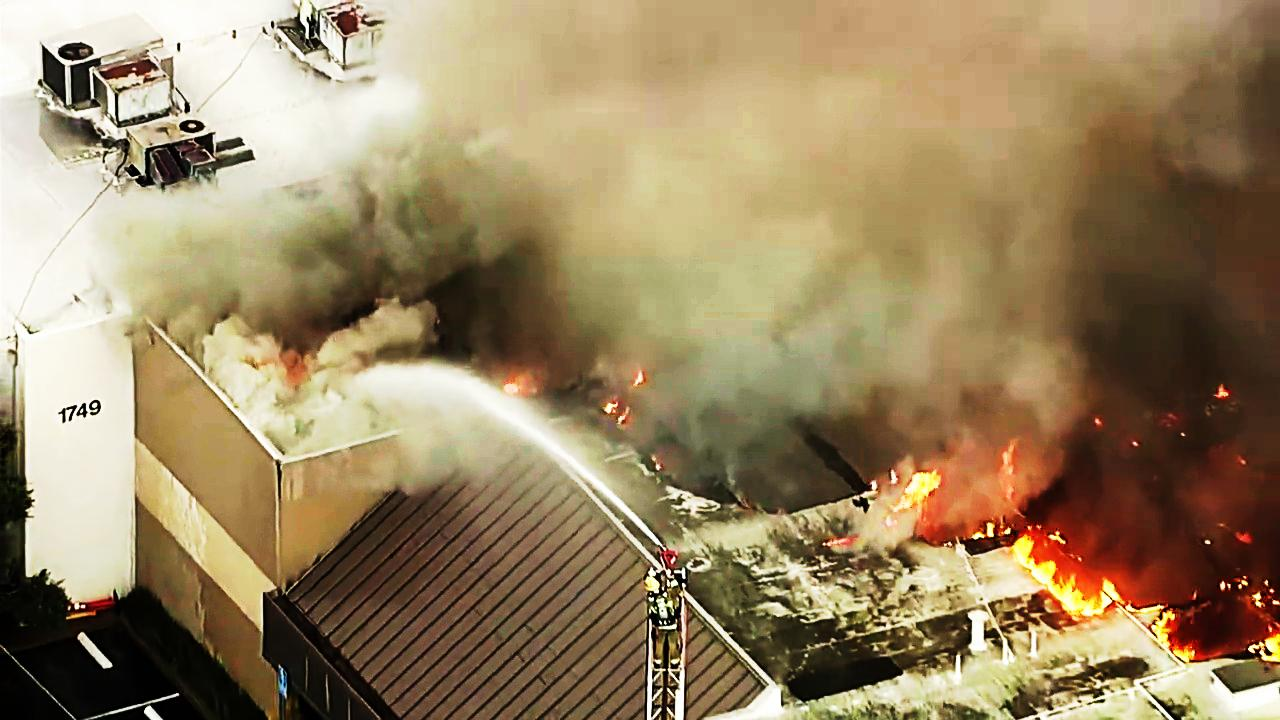fire: (1025, 555, 1222, 647)
